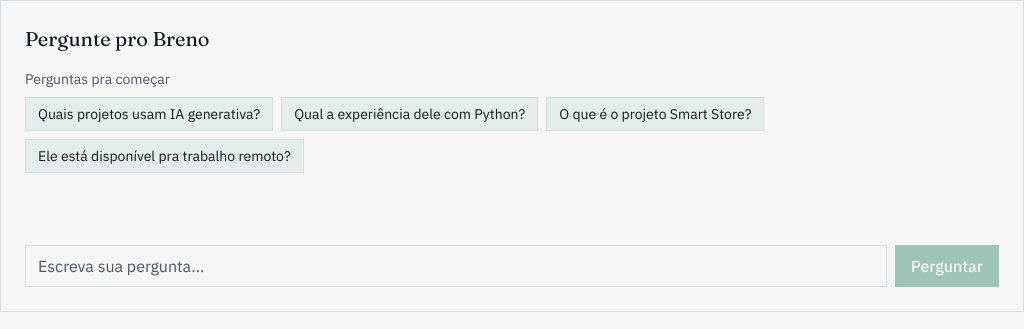
it: Chat › shows the 'not available yet' message for a 404 (unpublished agent)
Type "Oi" into the field with placeholder "Escreva sua pergunta..." at point(456, 266), box [25, 245, 887, 287]
Then press Enter
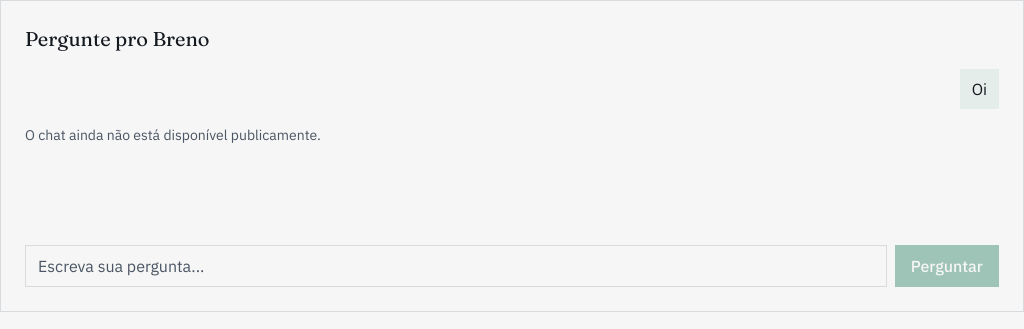
Check: the text "O chat ainda não está disponível publicamente." is shown, box [25, 126, 321, 144]
